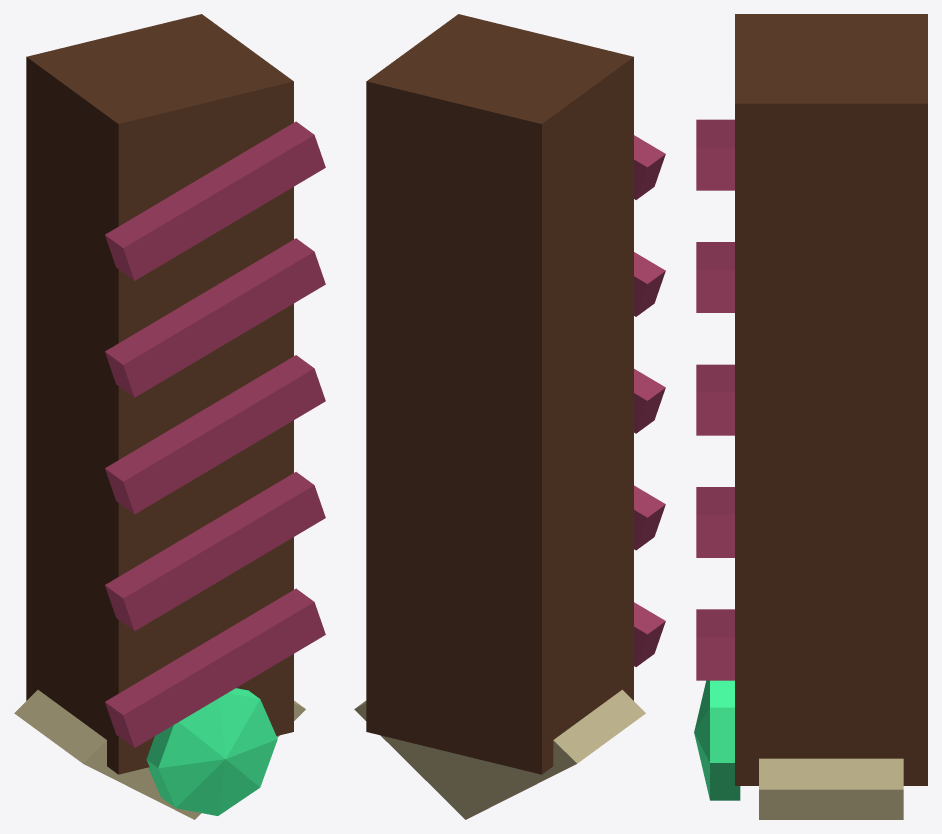
Rendered from wrapped.obj.
3 views of the same model, side by side, from view 1: azimuth 30°, elevation 25°; view 2: azimuth 150°, elevation 25°; view 3: azimuth 270°, elevation 25° (orthographic). The views are drawn at different scales.
Visible parts, largest first — view 1: wrapped_grip, wrapped_gem, grip_wrap_1, grip_wrap_2, grip_wrap_3, grip_wrap_0, grip_wrap_4, grip_wrap_0_edge, grip_wrap_3_edge, grip_wrap_4_edge, grip_wrap_1_edge, grip_wrap_2_edge (+2 smaller); view 2: wrapped_grip, wrapped_pommel, wrapped_pommel_edge, grip_wrap_2_edge, grip_wrap_4_edge, grip_wrap_0_edge, grip_wrap_1_edge, grip_wrap_3_edge; view 3: wrapped_grip, wrapped_pommel_edge, wrapped_gem, grip_wrap_0_edge, grip_wrap_2_edge, grip_wrap_4_edge, grip_wrap_1_edge, grip_wrap_3_edge.
Boxes of the visible parts, x1,y1,x2,y2 form: wrapped_grip: [26, 14, 293, 774]; wrapped_gem: [146, 688, 277, 815]; grip_wrap_1: [123, 252, 325, 397]; grip_wrap_2: [123, 368, 325, 514]; grip_wrap_3: [123, 485, 325, 630]; grip_wrap_0: [123, 135, 325, 280]; grip_wrap_4: [123, 602, 325, 747]; grip_wrap_0_edge: [105, 121, 314, 280]; grip_wrap_3_edge: [105, 472, 314, 630]; grip_wrap_4_edge: [105, 588, 313, 747]; grip_wrap_1_edge: [105, 238, 314, 397]; grip_wrap_2_edge: [105, 355, 314, 514]; wrapped_grip: [366, 14, 633, 774]; wrapped_pommel: [354, 703, 576, 819]; wrapped_pommel_edge: [355, 689, 645, 763]; grip_wrap_2_edge: [634, 369, 665, 433]; grip_wrap_4_edge: [634, 602, 665, 666]; grip_wrap_0_edge: [634, 135, 665, 199]; grip_wrap_1_edge: [634, 252, 665, 316]; grip_wrap_3_edge: [634, 485, 665, 549]; wrapped_grip: [735, 14, 927, 785]; wrapped_pommel_edge: [759, 758, 903, 819]; wrapped_gem: [694, 680, 740, 800]; grip_wrap_0_edge: [696, 119, 734, 190]; grip_wrap_2_edge: [696, 364, 734, 435]; grip_wrap_4_edge: [696, 609, 734, 680]; grip_wrap_1_edge: [696, 242, 734, 312]; grip_wrap_3_edge: [696, 487, 734, 557].
Size of the model in its own units: 0.28 by 0.87 by 0.2423.
